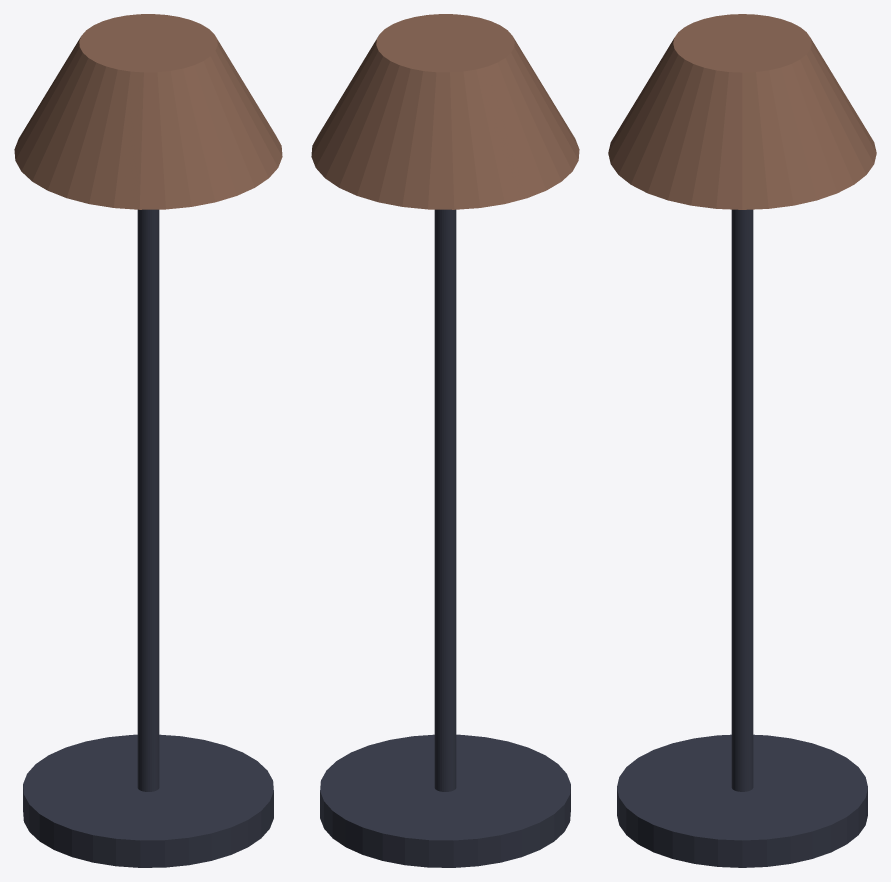
Rendered from lamp.glb.
The picture shows the model from 3 angles, left to right: view 1: azimuth 30°, elevation 25°; view 2: azimuth 150°, elevation 25°; view 3: azimuth 270°, elevation 25°; orthographic projection.
Parts seen in each view (by area): view 1: Lamp shade.002, Lamp base.002, Lamp stem.002; view 2: Lamp shade.002, Lamp base.002, Lamp stem.002; view 3: Lamp shade.002, Lamp base.002, Lamp stem.002.
Boxes of the visible parts, x1=… form: Lamp shade.002: x1=14, y1=14, x2=282, y2=209; Lamp base.002: x1=23, y1=734, x2=273, y2=867; Lamp stem.002: x1=137, y1=209, x2=159, y2=791; Lamp shade.002: x1=311, y1=14, x2=579, y2=209; Lamp base.002: x1=320, y1=734, x2=570, y2=867; Lamp stem.002: x1=434, y1=209, x2=456, y2=791; Lamp shade.002: x1=608, y1=14, x2=876, y2=209; Lamp base.002: x1=617, y1=734, x2=867, y2=867; Lamp stem.002: x1=731, y1=209, x2=753, y2=791.
Size of the model in its own units: 0.62 by 1.97 by 0.62.
